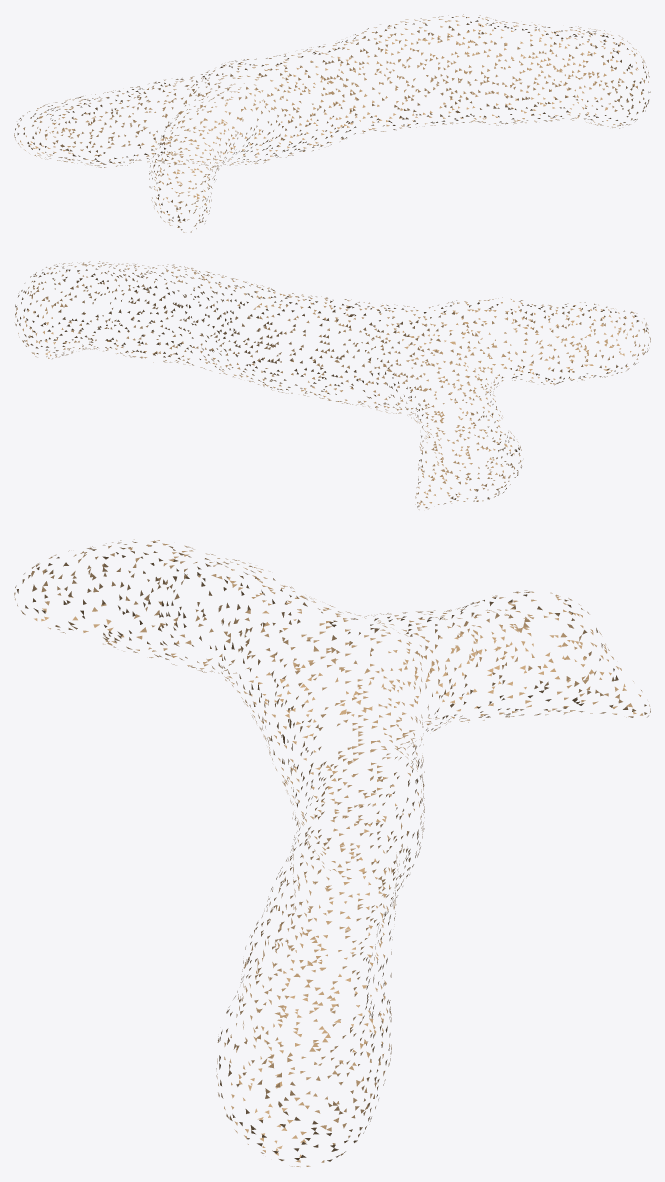
The model's file is morph_006.glb.
3 views of the same model, one above another, from view 1: azimuth 30°, elevation 25°; view 2: azimuth 150°, elevation 25°; view 3: azimuth 270°, elevation 25° (orthographic). The views are drawn at different scales.
Size of the model in its own units: 127 by 31.42 by 74.48.
